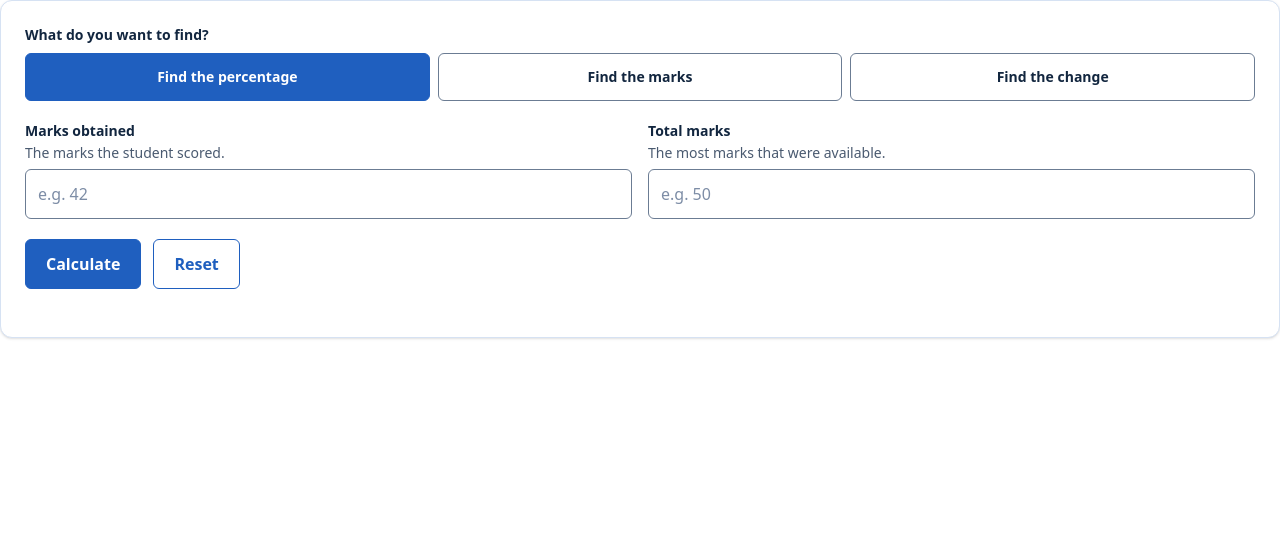
Test: PercentageCalculator › clears an old result as soon as an input changes
In the field labelled "Marks obtained": (328, 194) x1=25 y1=169 x2=632 y2=219, type "42"
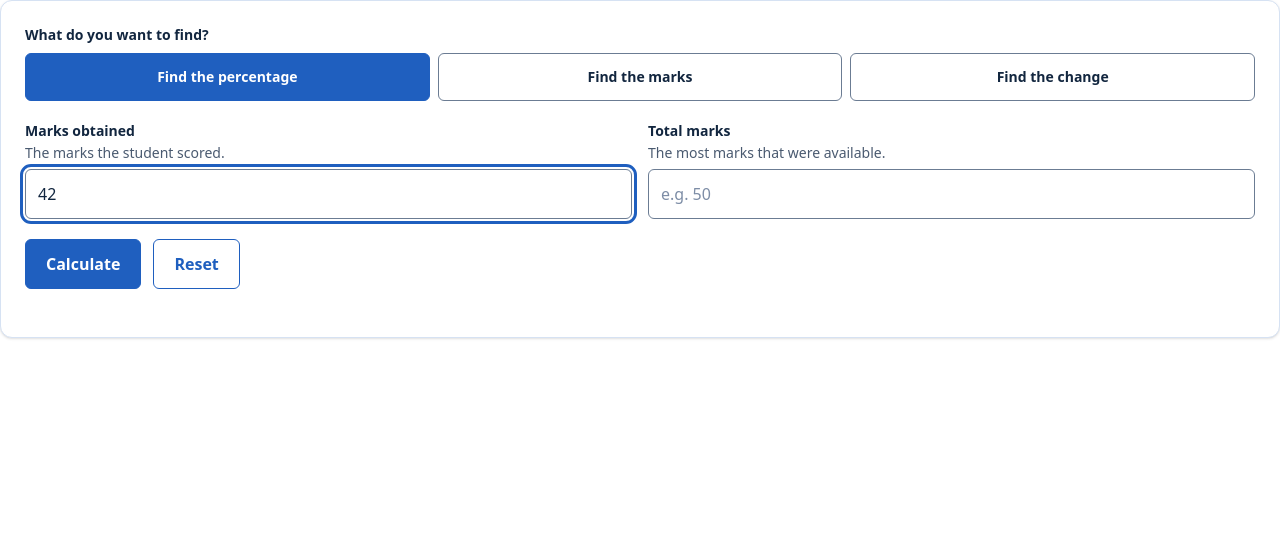
In the field labelled "Total marks": (952, 194) x1=648 y1=169 x2=1255 y2=219, type "50"
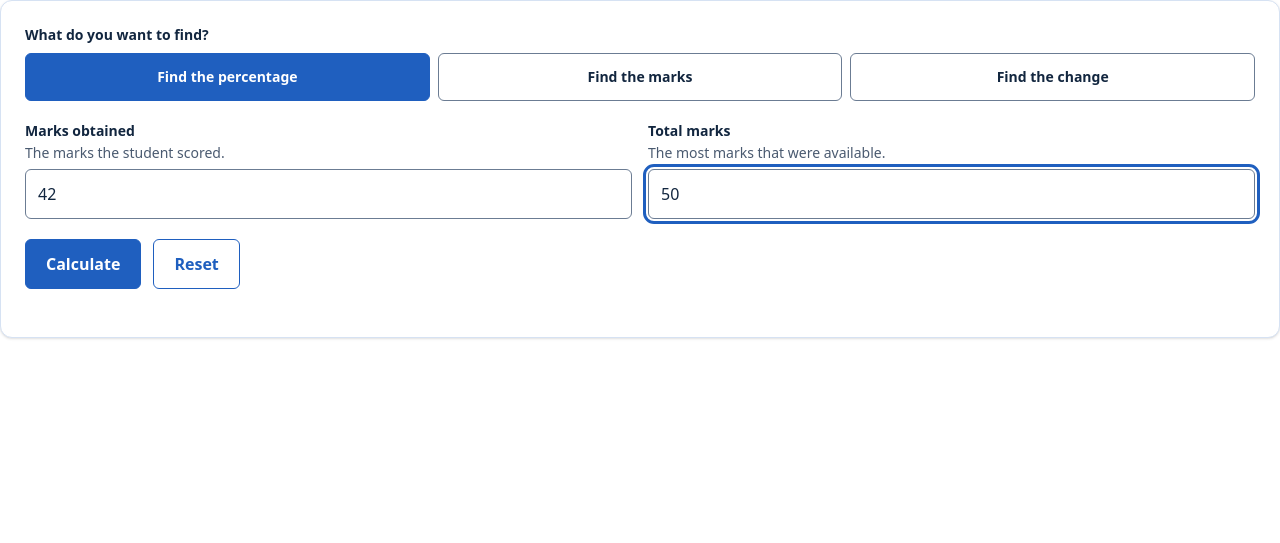
Click the button "Calculate": (83, 264) x1=25 y1=239 x2=141 y2=289
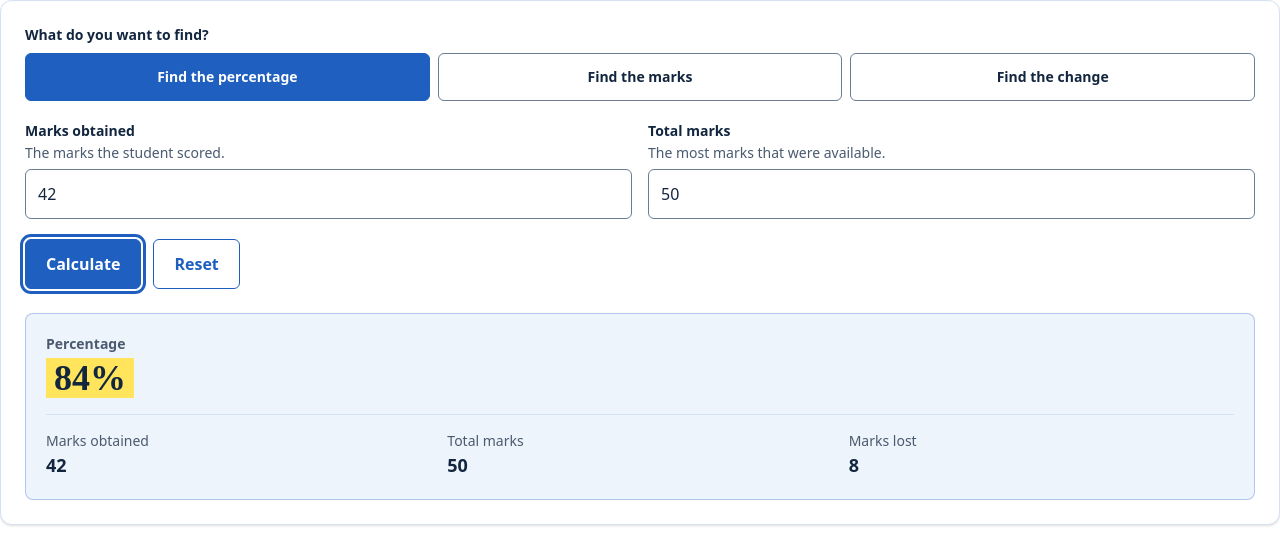
Now the text "84%" is shown, box x1=46 y1=358 x2=134 y2=398
In the field labelled "Marks obtained": (328, 194) x1=25 y1=169 x2=632 y2=219, type "1"
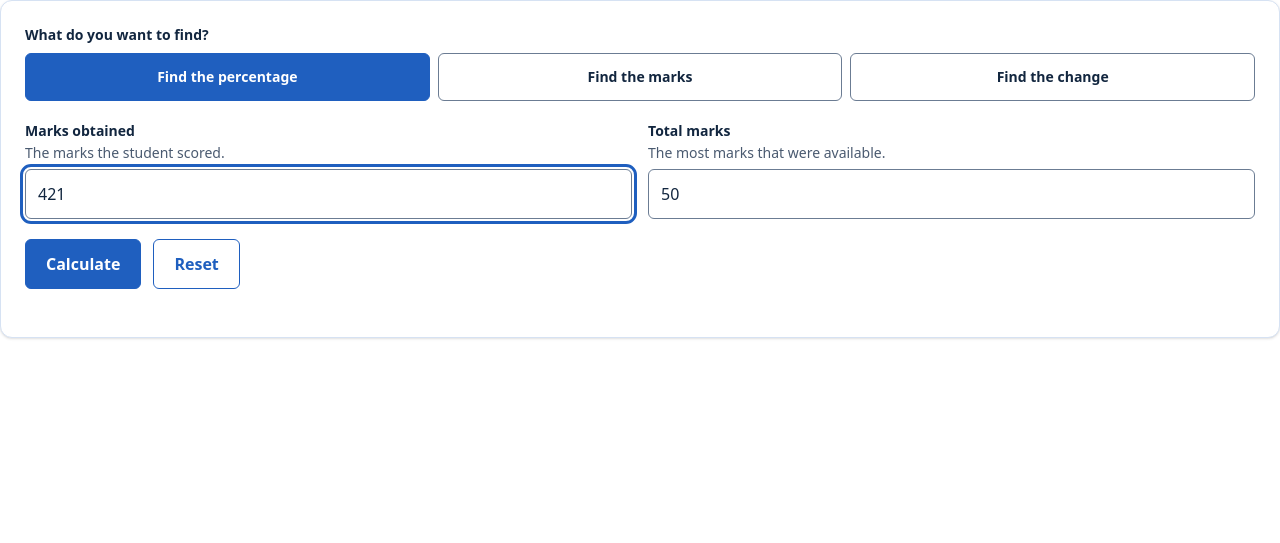
Now the text "84%" is gone
